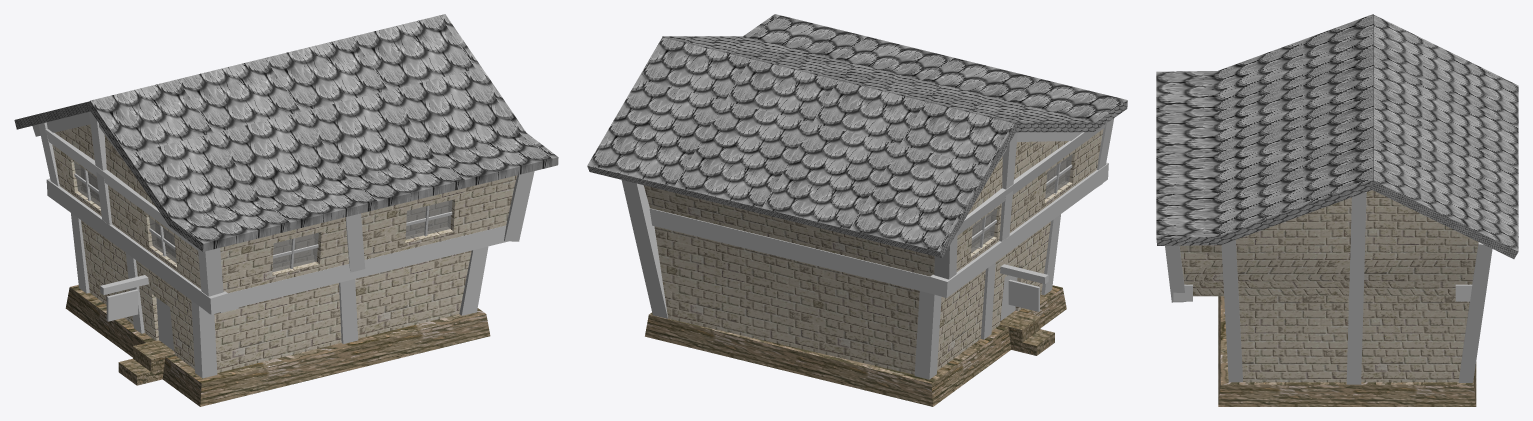
The model's file is StoneMerchant.FBX.
3 views of the same model, side by side, from view 1: azimuth 30°, elevation 25°; view 2: azimuth 150°, elevation 25°; view 3: azimuth 270°, elevation 25° (orthographic). The views are drawn at different scales.
Parts seen in each view (by area): view 1: MainBuilding; view 2: MainBuilding; view 3: MainBuilding.
Part boxes in pixels (x1,y1,x2,y2): MainBuilding: [14, 14, 558, 406]; MainBuilding: [587, 14, 1127, 406]; MainBuilding: [1156, 14, 1518, 406].
Size of what is drawn, in the model's own units: 591 by 393 by 530.
